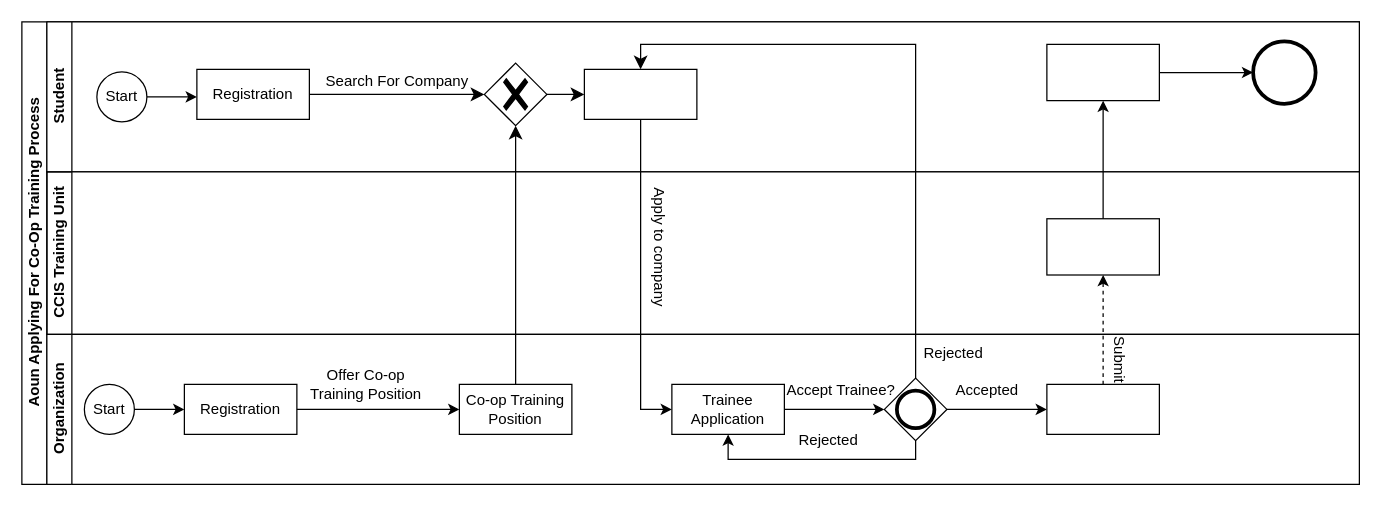
Some shapes in this 1381 by 506 pixel diagram are drawn without their labels. Each missing label, with the centre of its shape:
"End" belongs at point (1284, 72).
"Joining Report Form" belongs at point (1102, 408).
"List Of Opportunities" belongs at point (640, 93).
"Received Joining Report Form" belongs at point (1102, 246).
"Start Training" belongs at point (1102, 72).
